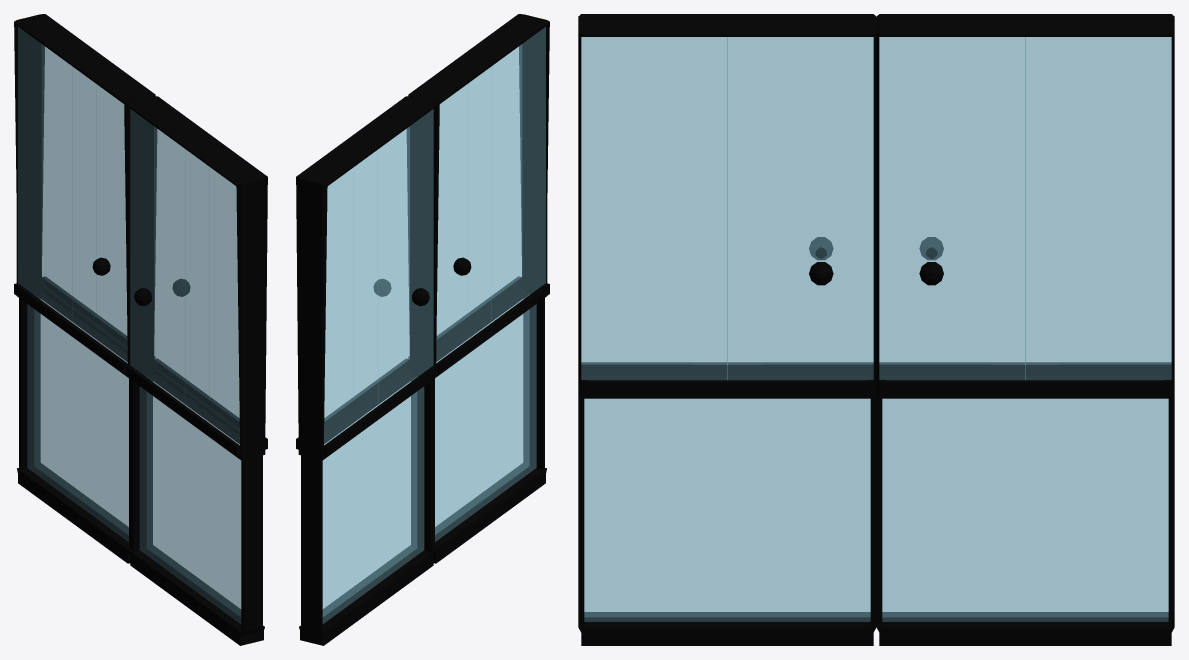
Rendered from porte.glb.
The picture shows the model from 3 angles, left to right: view 1: azimuth 30°, elevation 25°; view 2: azimuth 150°, elevation 25°; view 3: azimuth 270°, elevation 25°; orthographic projection. The views are drawn at different scales.
Parts seen in each view (by area): view 1: Cube; view 2: Cube; view 3: Cube.
Boxes of the visible parts, x1,y1,x2,y2 form: Cube: [14, 14, 267, 645]; Cube: [296, 14, 549, 645]; Cube: [578, 14, 1174, 645].
Bounding box in the file's own units: 0.2799 × 2.31 × 2.03.
